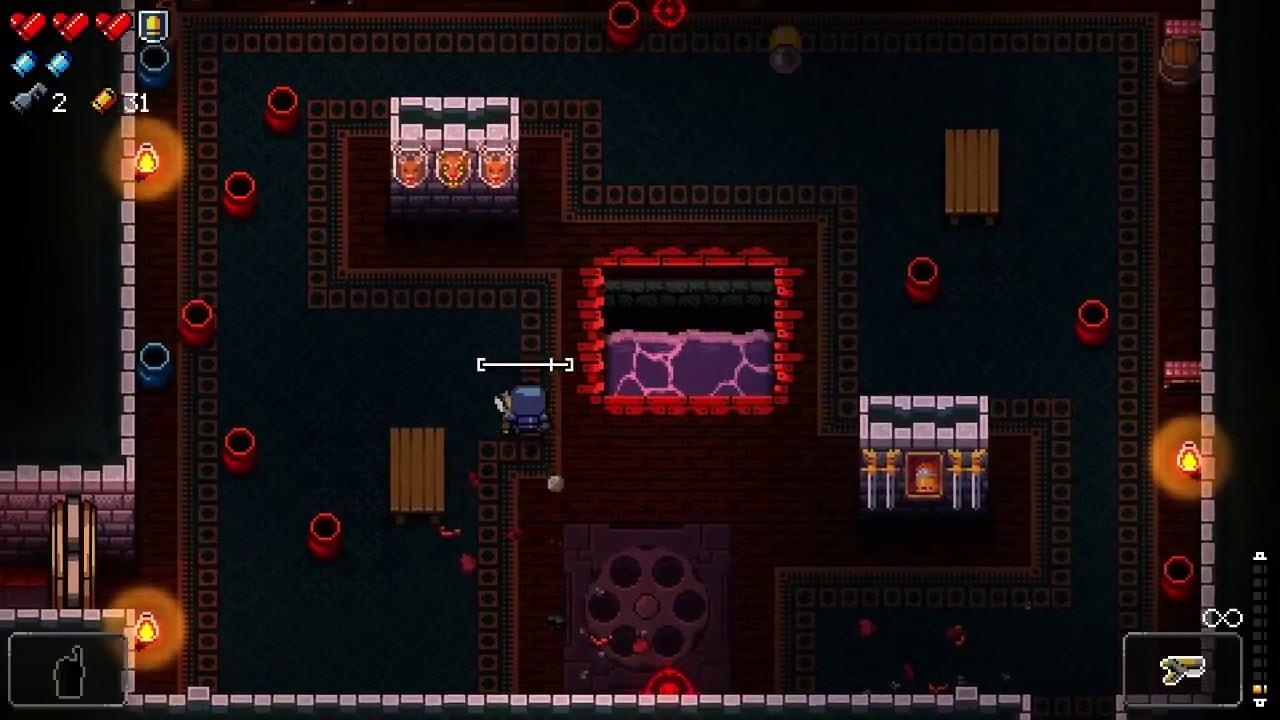dead_bullet_kin: (769, 26, 803, 76)
enemy_spawn: (642, 660, 697, 693), (653, 0, 687, 28)
locked_door: (51, 493, 96, 608)
player: (508, 384, 549, 436)
table: (390, 427, 444, 527), (945, 128, 998, 227)
teleporter: (562, 522, 731, 693)
water_pit: (578, 244, 804, 417)
